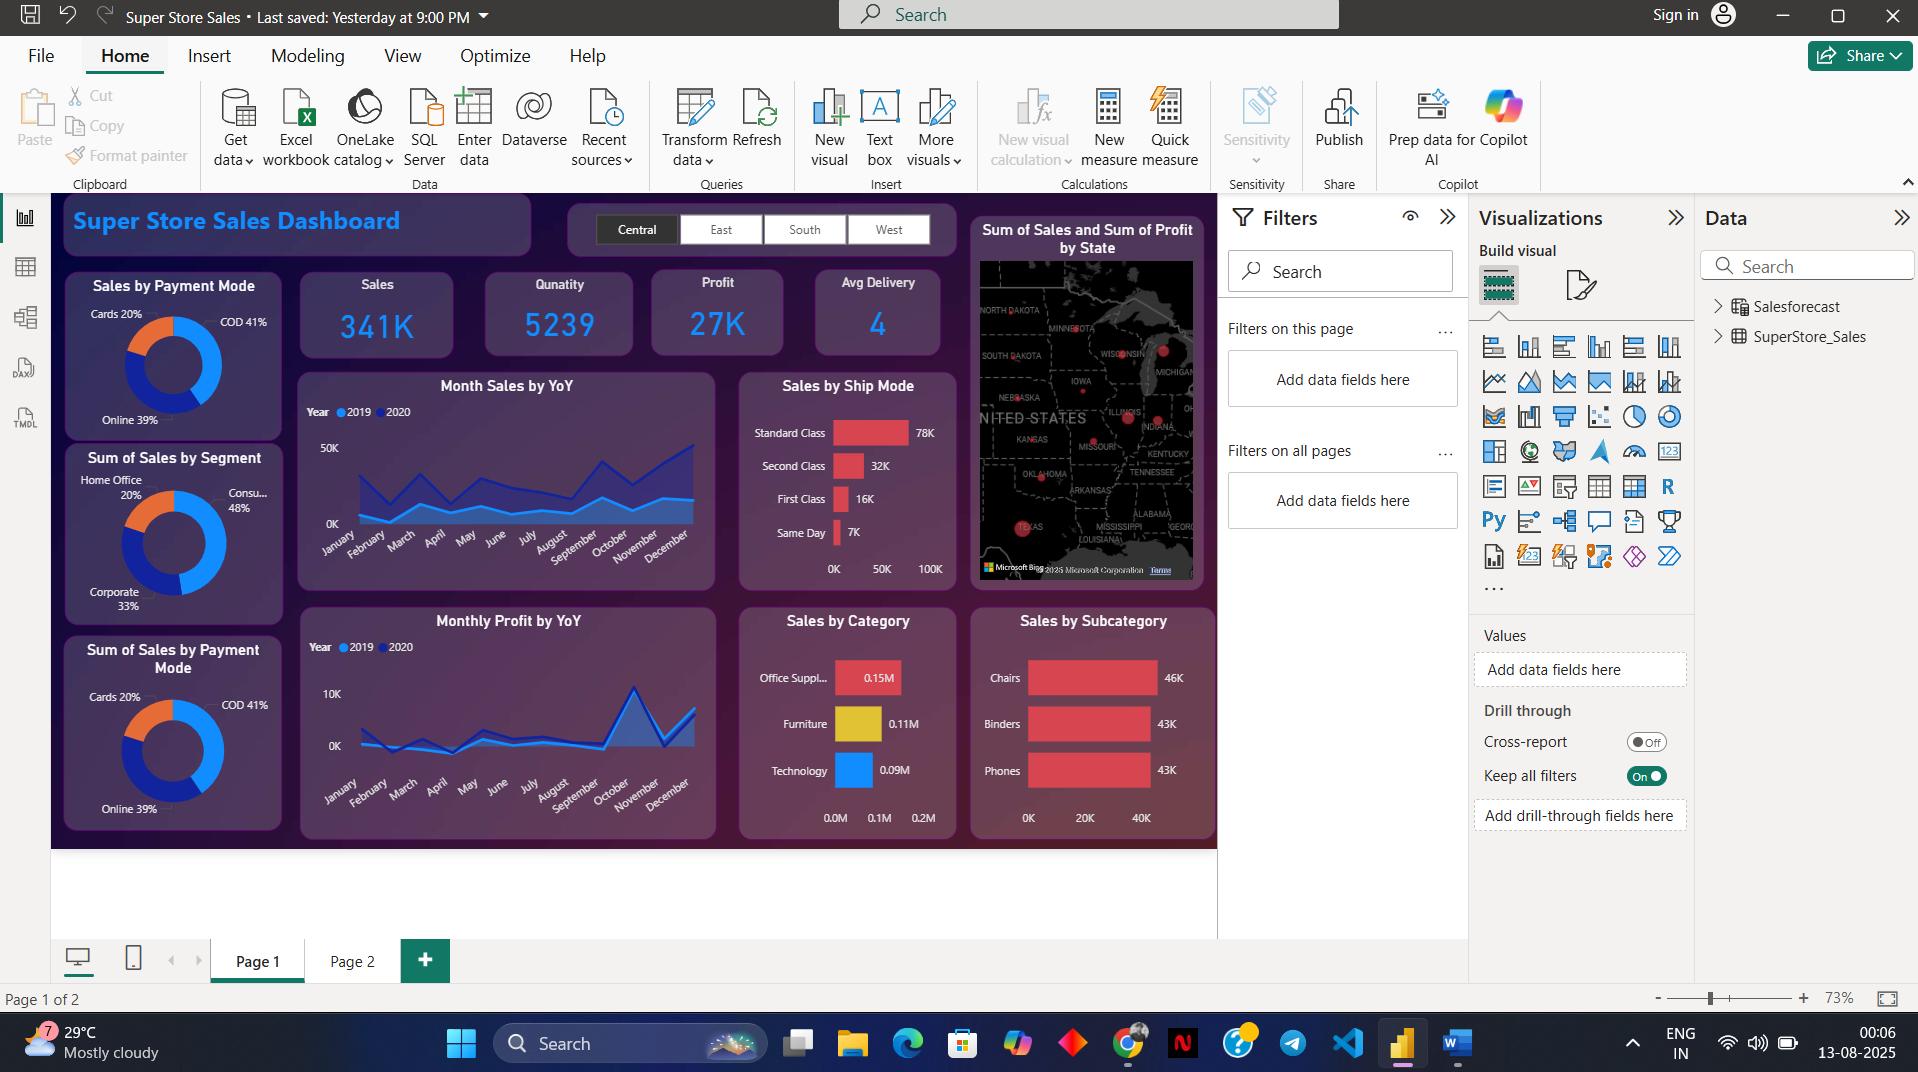

This screenshot's page, from the dashboard's own definition file:
{"tool":"powerbi","page":{"name":"Page 1","canvas":[1280,720],"ordinal":0},"visuals":[{"type":"clusteredBarChart","title":"Sales by Subcategory","fields":{"Category":["SuperStore_Sales_Dataset.Sub-Category"],"Y":["SuperStore_Sales_Dataset.Sales"]},"box":[1008.8,454.4,270.6,255.9],"z":0},{"type":"clusteredBarChart","title":"Sales by Category","fields":{"Category":["SuperStore_Sales_Dataset.Category"],"Y":["SuperStore_Sales_Dataset.Sales"]},"box":[754.4,454.4,239.7,255.9],"z":1000},{"type":"clusteredBarChart","title":"Sales by Ship Mode","fields":{"Category":["SuperStore_Sales_Dataset.Ship Mode"],"Y":["SuperStore_Sales_Dataset.Sales"]},"box":[754.4,195.6,239.7,241.2],"z":2000},{"type":"stackedAreaChart","title":" Month Sales by YoY","fields":{"Y":["SuperStore_Sales_Dataset.Sales"],"Category":["SuperStore_Sales_Dataset.Order Date.Variation.Date Hierarchy.Month","SuperStore_Sales_Dataset.Order Date.Variation.Date Hierarchy.Day"],"Series":["SuperStore_Sales_Dataset.Order Date.Variation.Date Hierarchy.Year"]},"box":[270.6,195.6,458.8,241.2],"z":3000},{"type":"stackedAreaChart","title":" Monthly Profit by YoY","fields":{"Category":["SuperStore_Sales_Dataset.Order Date.Variation.Date Hierarchy.Month","SuperStore_Sales_Dataset.Order Date.Variation.Date Hierarchy.Day"],"Series":["SuperStore_Sales_Dataset.Order Date.Variation.Date Hierarchy.Year"],"Y":["SuperStore_Sales_Dataset.Profit"]},"box":[273.5,454.4,457.4,255.9],"z":4000},{"type":"map","fields":{"Category":["SuperStore_Sales_Dataset.State"],"Size":["SuperStore_Sales_Dataset.Sales"]},"box":[1008.8,25,257.4,411.8],"z":5000},{"type":"donutChart","fields":{"Category":["SuperStore_Sales_Dataset.Segment"],"Y":["SuperStore_Sales_Dataset.Sales"]},"box":[14.7,275,239.7,200],"z":6000},{"type":"donutChart","fields":{"Category":["SuperStore_Sales_Dataset.Payment Mode"],"Y":["SuperStore_Sales_Dataset.Sales"]},"box":[13.2,485.3,239.7,214.7],"z":7000},{"type":"slicer","fields":{"Values":["SuperStore_Sales_Dataset.Region"]},"box":[566.7,11,428.1,59],"z":8000},{"type":"textbox","box":[13.7,0,513.2,70],"z":9000},{"type":"card","title":"Sales","fields":{"Values":["SuperStore_Sales_Dataset.Sales"]},"box":[273.5,86.8,169.1,95.6],"z":10000},{"type":"card","title":"Qunatity","fields":{"Values":["SuperStore_Sales_Dataset.Quantity"]},"box":[476.5,86.8,163.2,92.6],"z":10001},{"type":"card","title":"Profit","fields":{"Values":["SuperStore_Sales_Dataset.Profit"]},"box":[658.8,83.8,145.6,95.6],"z":10002},{"type":"card","title":"Avg Delivery","fields":{"Values":["SuperStore_Sales_Dataset.AvgDelivery"]},"box":[838.2,83.8,138.2,95.6],"z":10003},{"type":"donutChart","title":"Sales by Payment Mode","fields":{"Category":["SuperStore_Sales.Payment Mode"],"Y":["SuperStore_Sales_Dataset.Sales"]},"box":[14.7,86.8,238.2,185.3],"z":10004}]}

Visuals, with their boxes on the page's 1280x720 design canvas (x1, y1, x2, y2). These are canvas units, not pixel positions in the 1918x1072 screenshot, which may show the page scaled, cropped or inside an application window:
"Sales by Subcategory" clusteredBarChart: (left=1009, top=454, right=1279, bottom=710)
"Sales by Category" clusteredBarChart: (left=754, top=454, right=994, bottom=710)
"Sales by Ship Mode" clusteredBarChart: (left=754, top=196, right=994, bottom=437)
" Month Sales by YoY" stackedAreaChart: (left=271, top=196, right=729, bottom=437)
" Monthly Profit by YoY" stackedAreaChart: (left=274, top=454, right=731, bottom=710)
map - SuperStore_Sales_Dataset.State x SuperStore_Sales_Dataset.Sales: (left=1009, top=25, right=1266, bottom=437)
donutChart - SuperStore_Sales_Dataset.Segment x SuperStore_Sales_Dataset.Sales: (left=15, top=275, right=254, bottom=475)
donutChart - SuperStore_Sales_Dataset.Payment Mode x SuperStore_Sales_Dataset.Sales: (left=13, top=485, right=253, bottom=700)
slicer - SuperStore_Sales_Dataset.Region: (left=567, top=11, right=995, bottom=70)
textbox: (left=14, top=0, right=527, bottom=70)
"Sales" card: (left=274, top=87, right=443, bottom=182)
"Qunatity" card: (left=476, top=87, right=640, bottom=179)
"Profit" card: (left=659, top=84, right=804, bottom=179)
"Avg Delivery" card: (left=838, top=84, right=976, bottom=179)
"Sales by Payment Mode" donutChart: (left=15, top=87, right=253, bottom=272)
